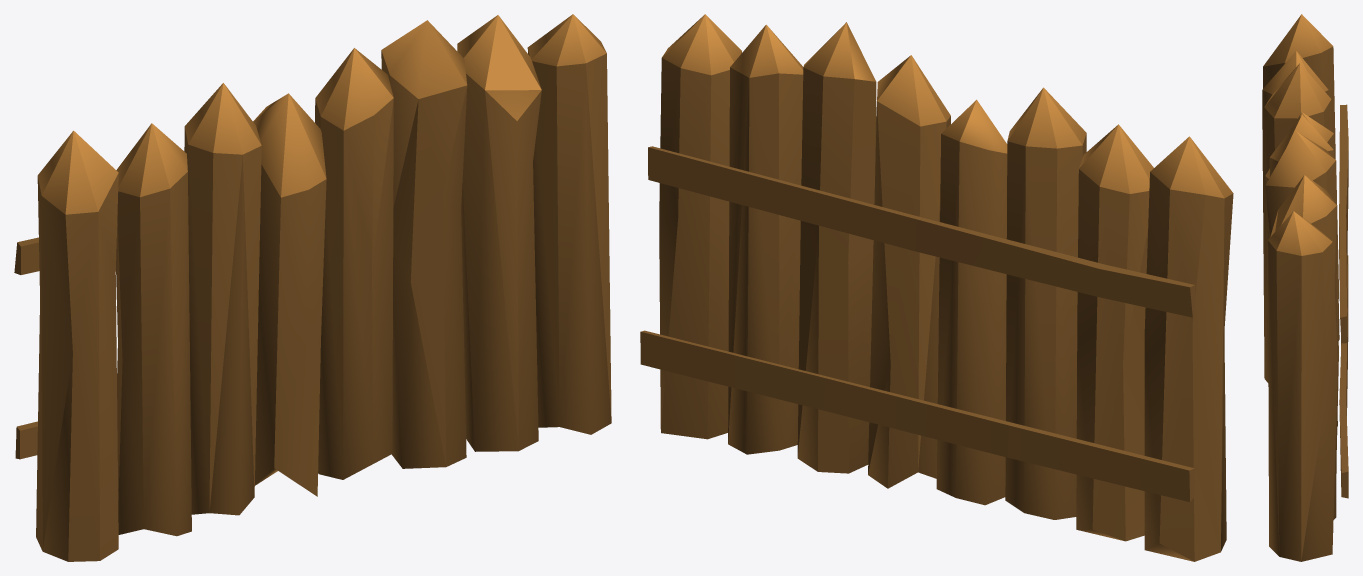
The model's file is viking borg1.fbx.
3 renders of one model, left to right at view 1: azimuth 30°, elevation 25°; view 2: azimuth 150°, elevation 25°; view 3: azimuth 270°, elevation 25°, orthographic. The views are drawn at different scales.
Visible parts, largest first — view 1: Cylinder; view 2: Cylinder; view 3: Cylinder.
Part boxes in pixels (x1,y1,x2,y2): Cylinder: (14,14,611,561); Cylinder: (640,14,1233,561); Cylinder: (1262,14,1348,561).
Bounding box in the file's own units: 306 × 228 × 49.62.
